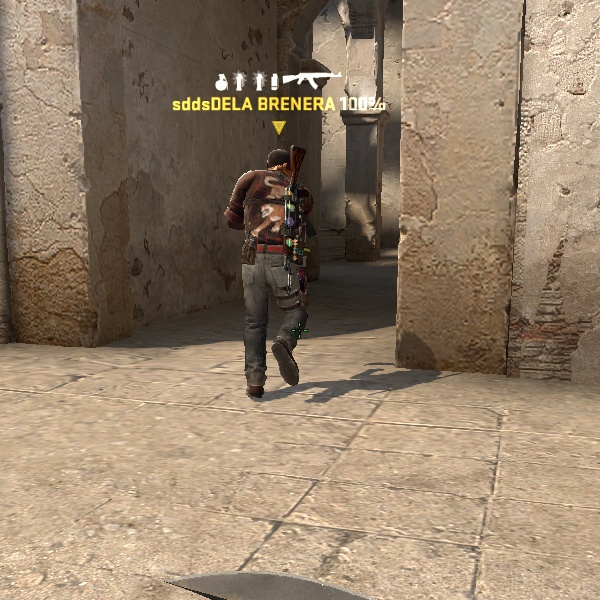t_body: (214, 139, 334, 404)
t_head: (257, 139, 307, 186)
